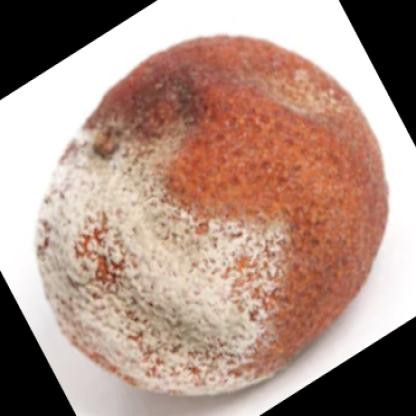rotten: (37, 36, 388, 399)
